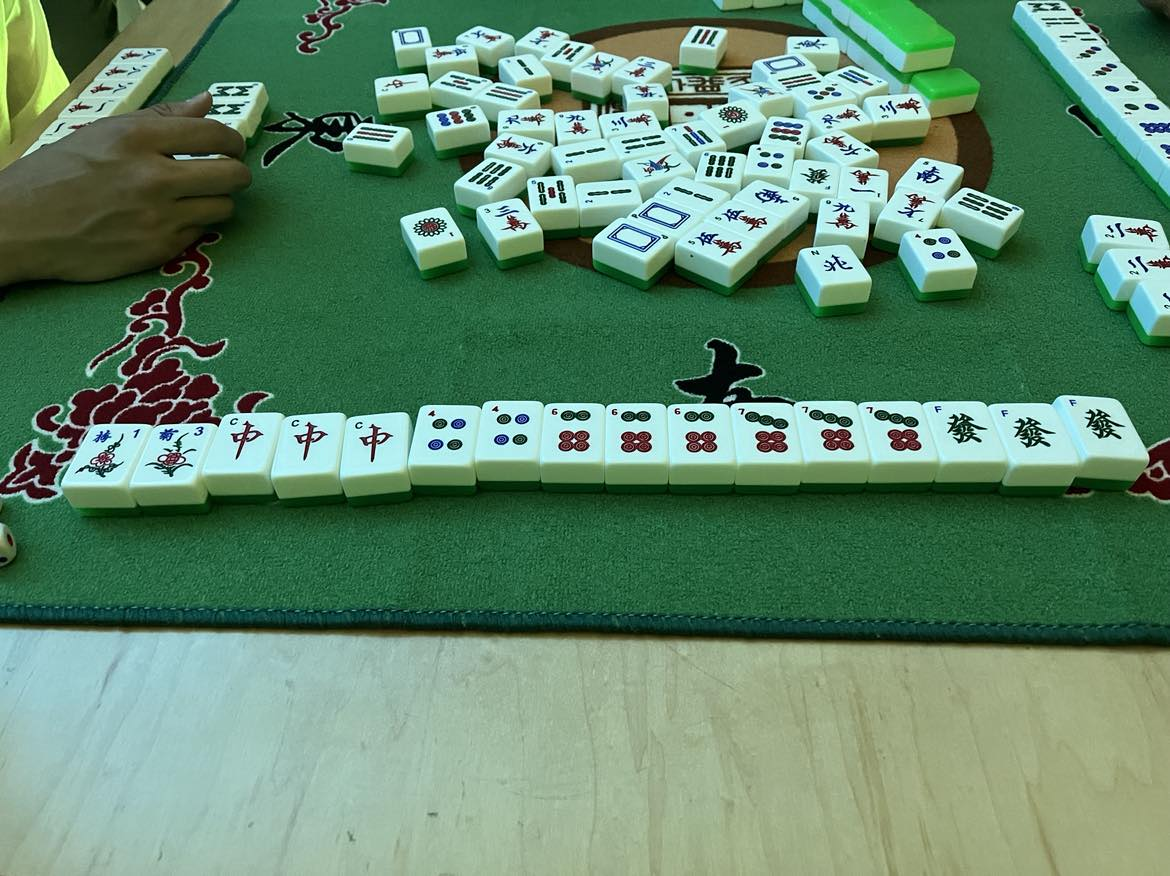circle-four: (485, 400, 536, 455), (419, 406, 470, 461)
circle-seven: (803, 403, 860, 462), (735, 404, 794, 461), (867, 405, 924, 455)
circle-six: (609, 405, 661, 461), (673, 404, 723, 462), (548, 404, 599, 459)
flower-blue_one: (73, 424, 141, 483)
flower-blue_three: (144, 423, 211, 483)
honor-green_dragon: (999, 405, 1060, 463), (1069, 396, 1127, 457), (931, 403, 992, 459)
honor-red_dragon: (285, 417, 333, 469), (350, 417, 395, 469), (225, 415, 264, 467)
